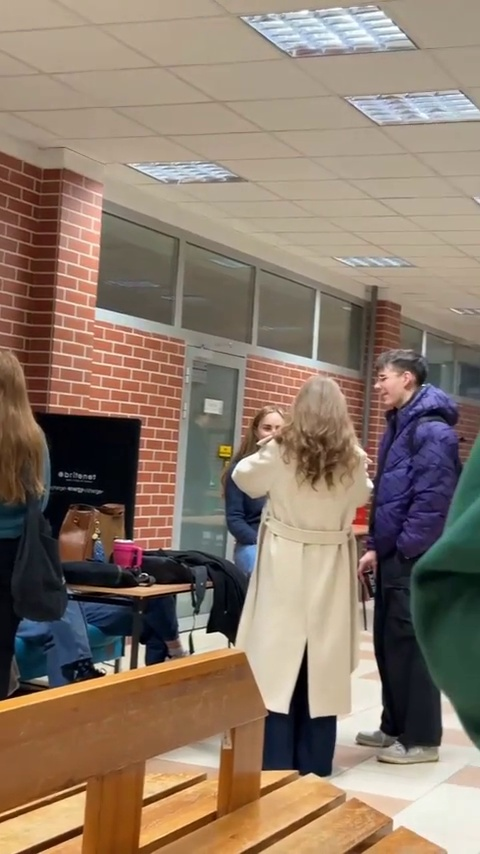no vest: (366, 341, 464, 735), (242, 371, 348, 731), (0, 341, 59, 683)
